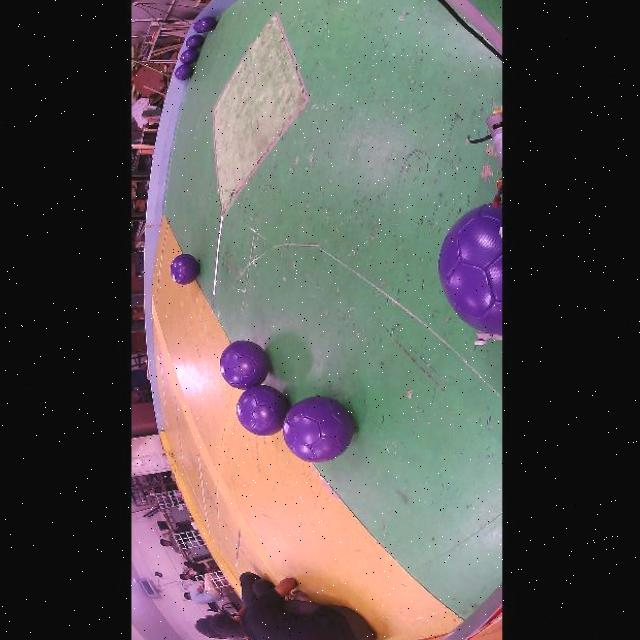P: (438, 203, 502, 336), (283, 396, 352, 463), (235, 385, 289, 436), (220, 340, 269, 389), (169, 254, 199, 285), (174, 64, 192, 81), (185, 34, 203, 50), (180, 49, 198, 64), (198, 18, 216, 33), (192, 22, 201, 33)
